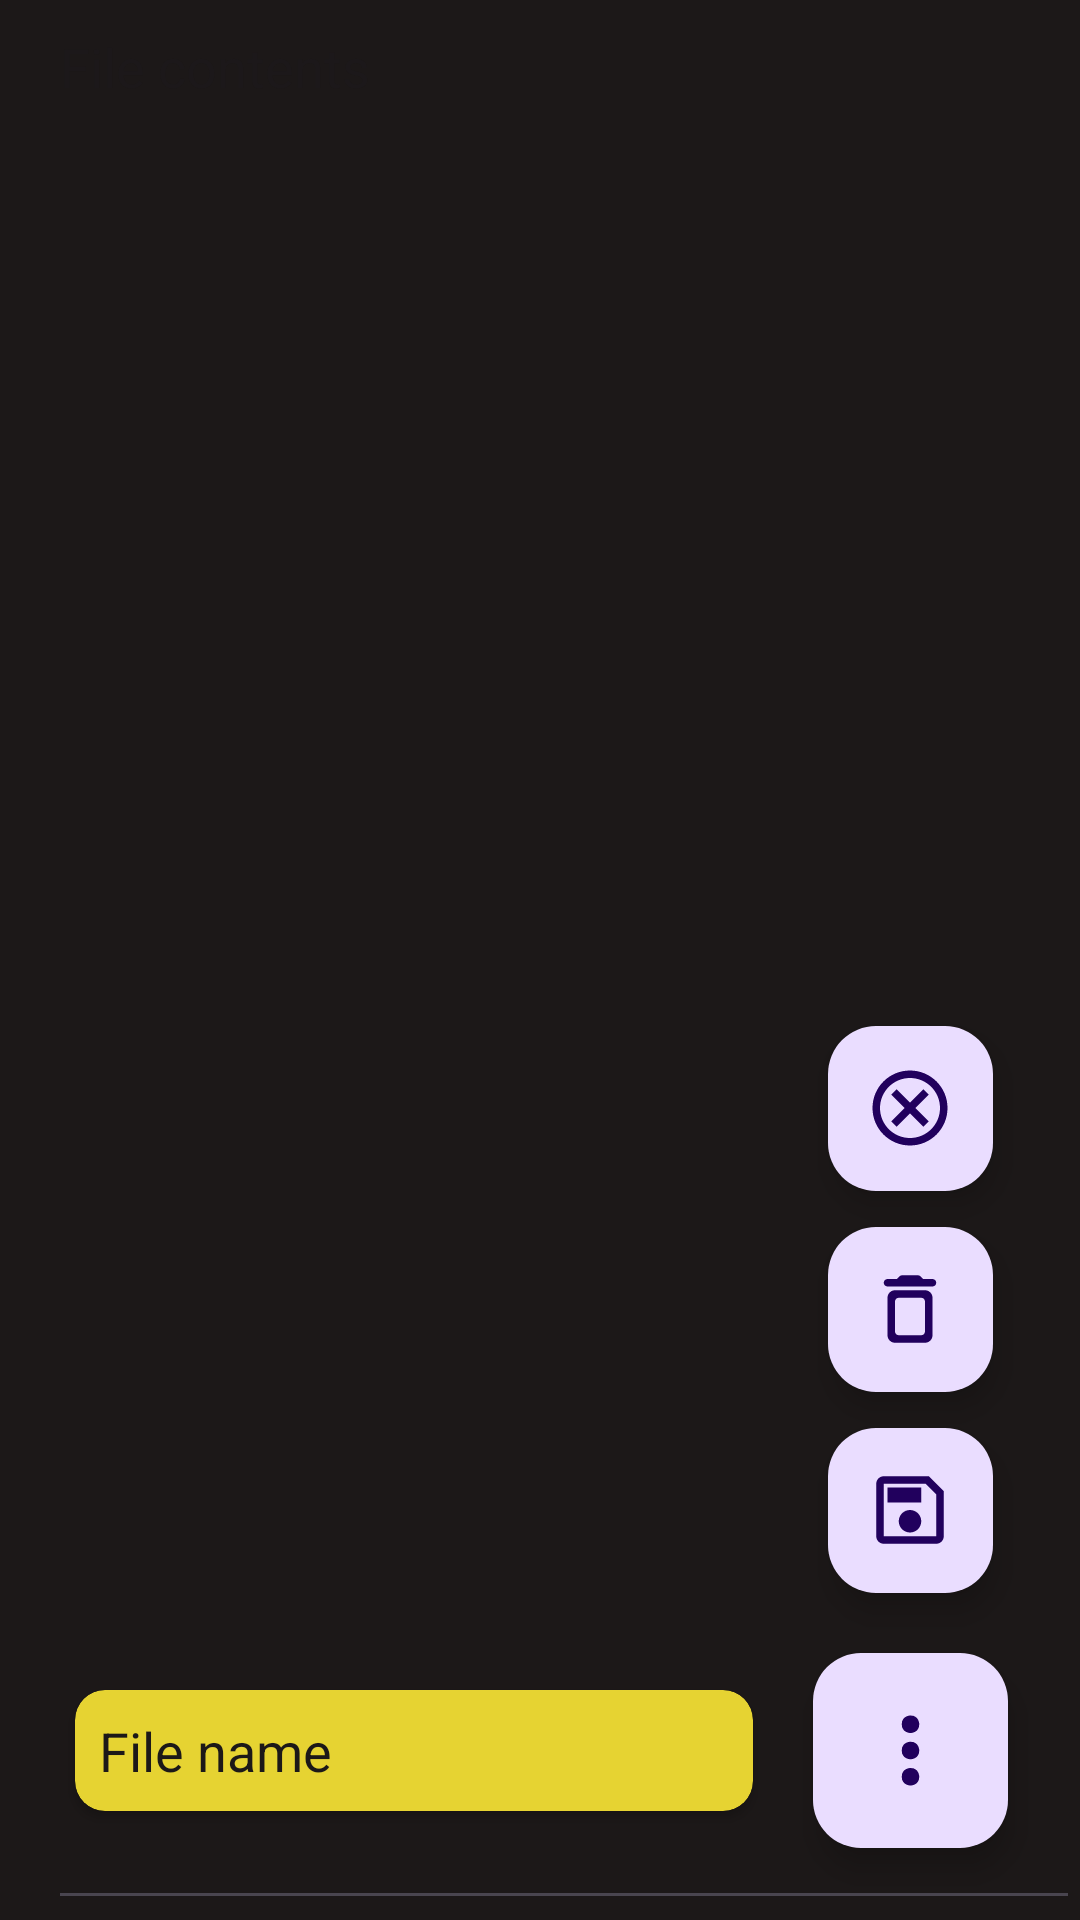

Icons on this 1080*1920 Android screen, each with its box as [x1,y1,x2,y2]:
cancel: [828,1026,993,1191]
delete: [828,1227,993,1392]
options: [813,1653,1008,1848]
save: [828,1428,993,1593]
